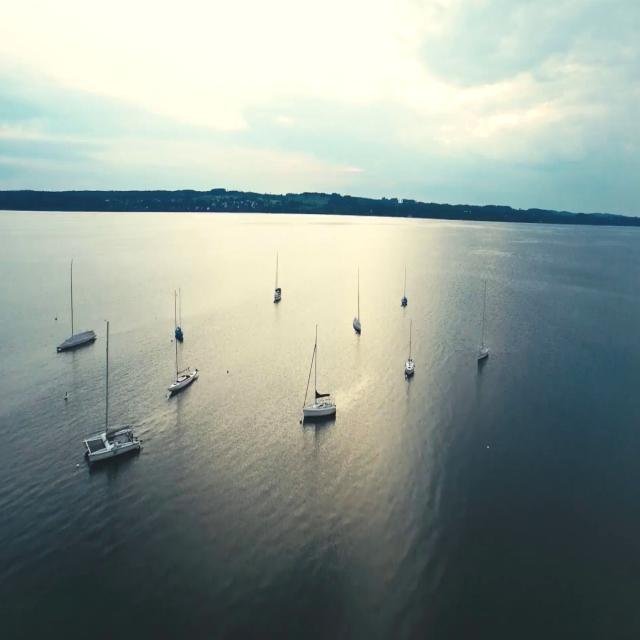ship: (55, 258, 98, 350), (300, 325, 336, 425), (82, 424, 144, 466), (464, 288, 494, 372), (346, 266, 364, 340), (168, 361, 199, 396), (398, 318, 416, 377), (392, 252, 409, 311), (56, 330, 98, 352), (269, 254, 280, 306)
